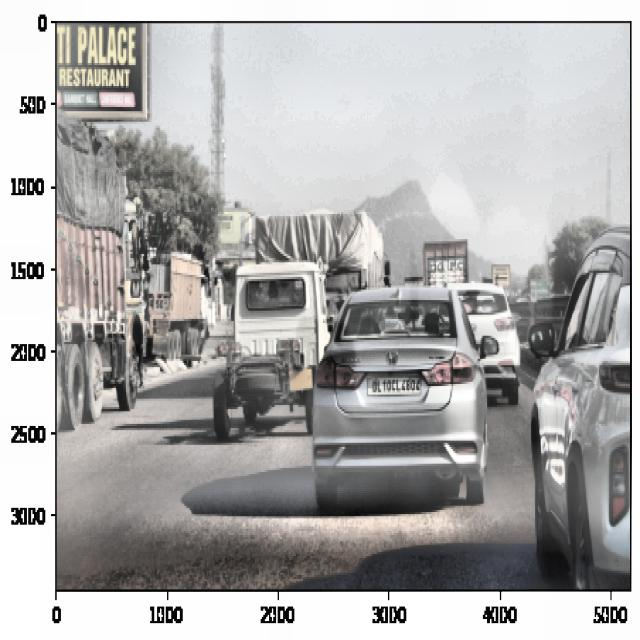license_plate: (369, 371, 426, 398)
